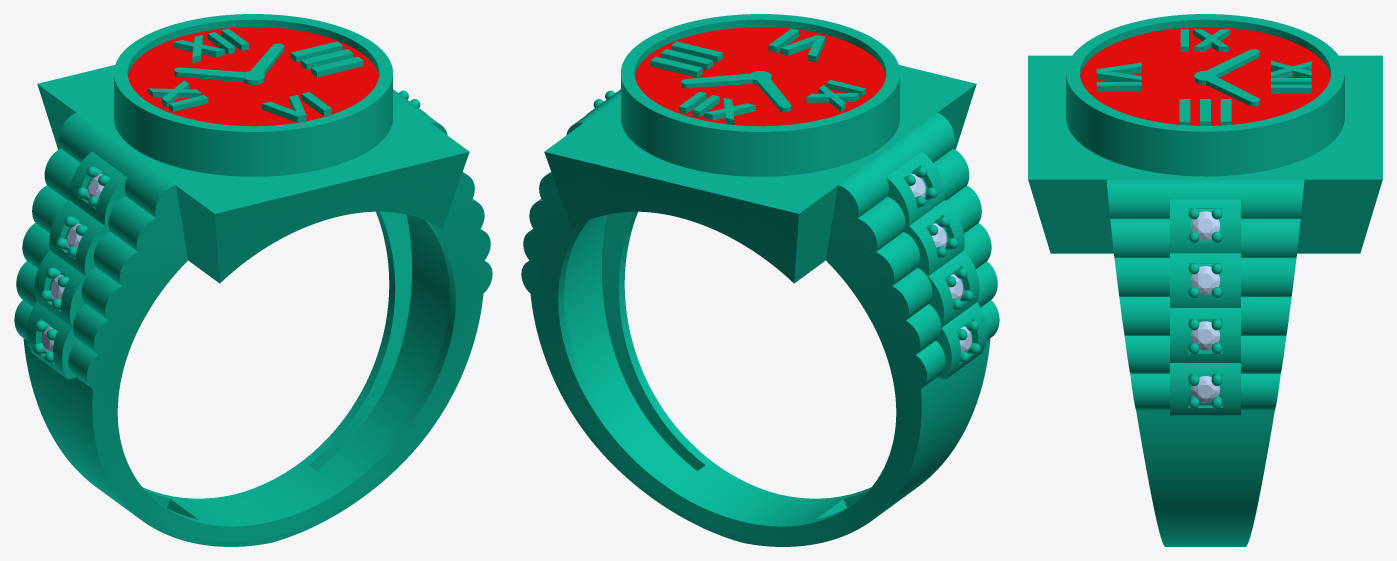
3 views of the same model, side by side, from view 1: azimuth 30°, elevation 25°; view 2: azimuth 150°, elevation 25°; view 3: azimuth 270°, elevation 25° (orthographic).
Parts seen in each view (by area): view 1: 77 Anillo Hombre Rolex.3dm; view 2: 77 Anillo Hombre Rolex.3dm; view 3: 77 Anillo Hombre Rolex.3dm, Diamond_Round (×4).
Boxes of the visible parts, box(x1,y1,x2,y2) form: 77 Anillo Hombre Rolex.3dm: box(14, 14, 492, 546); 77 Anillo Hombre Rolex.3dm: box(521, 14, 999, 546); 77 Anillo Hombre Rolex.3dm: box(1028, 14, 1382, 546); Diamond_Round (×4): box(1190, 211, 1220, 403).
Bounding box in the file's own units: 2.5 × 2.55 × 1.8.
